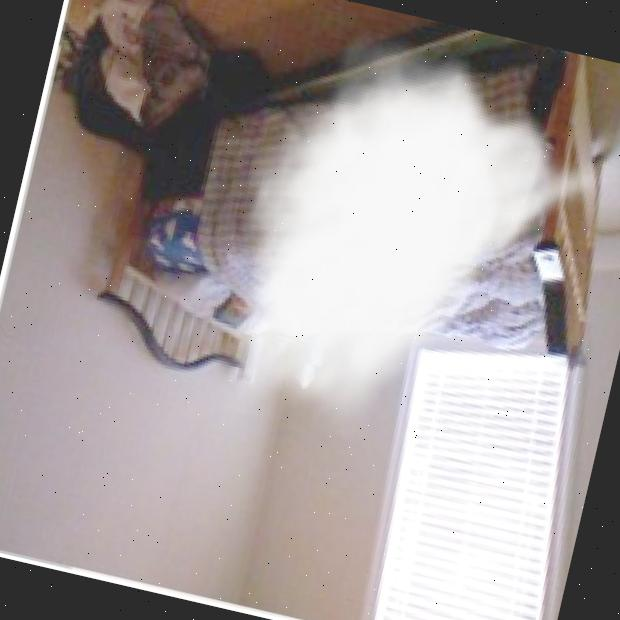smoke: (194, 12, 620, 487)
